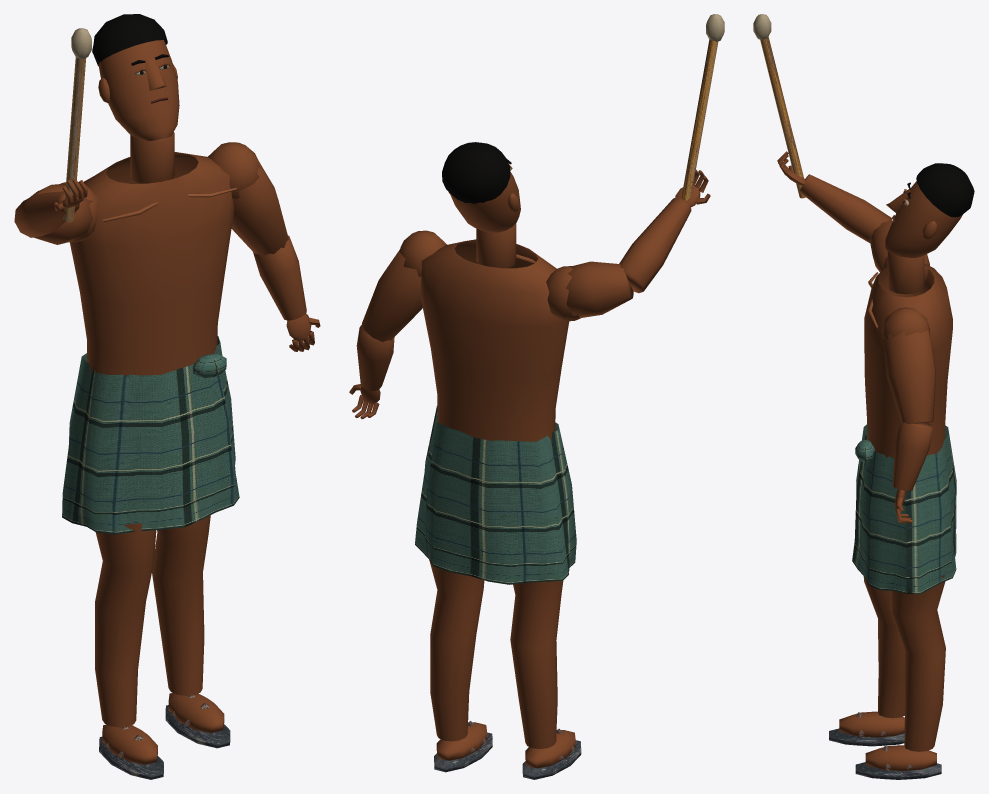
The model's file is char_fire_breather.glb.
The picture shows the model from 3 angles, left to right: view 1: azimuth 30°, elevation 25°; view 2: azimuth 150°, elevation 25°; view 3: azimuth 270°, elevation 25°; orthographic projection. The views are drawn at different scales.
Parts seen in each view (by area): view 1: char_fire_breather; view 2: char_fire_breather; view 3: char_fire_breather.
Boxes of the visible parts, x1=… form: char_fire_breather: x1=14, y1=14, x2=320, y2=779; char_fire_breather: x1=349, y1=14, x2=724, y2=779; char_fire_breather: x1=753, y1=14, x2=974, y2=779.
Bounding box in the file's own units: 0.8501 × 1.99 × 0.5843.
Materials: 12 (5 with a texture image).
